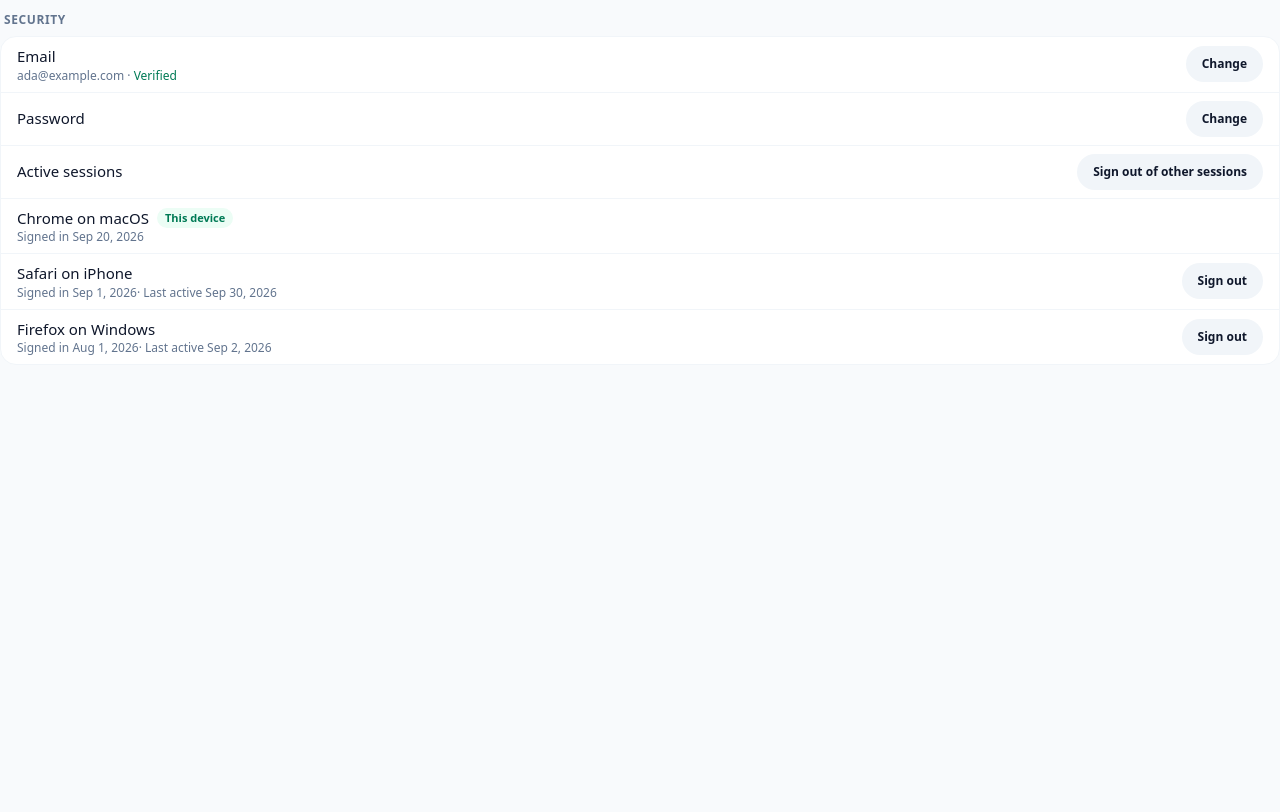
Test case: SecuritySection › shows why an email change was refused
This screenshot has width=1280, height=812.
Click the button "Change" in the row of "Verified" at (1224, 64), box [1186,46,1263,82]
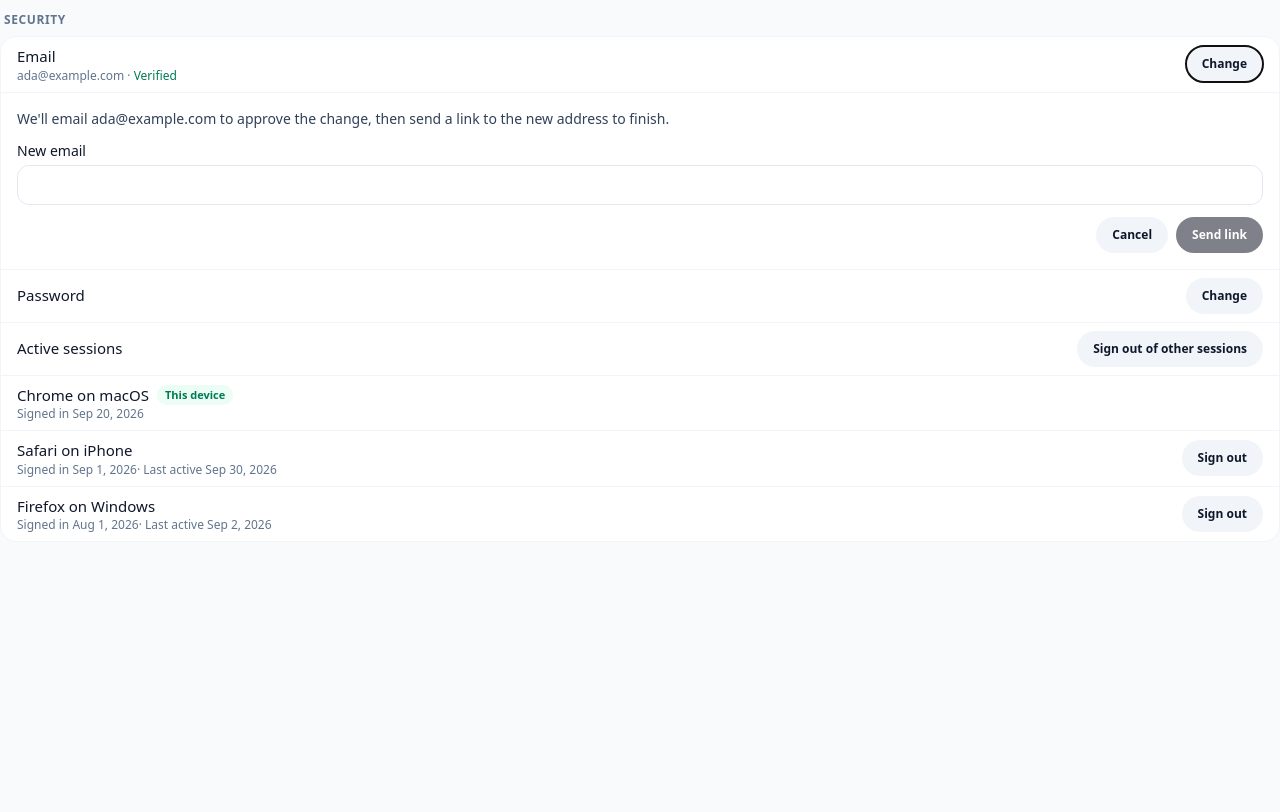
Type "blocked@example.com" into the field labelled "New email" at (640, 184), box [17,164,1263,204]
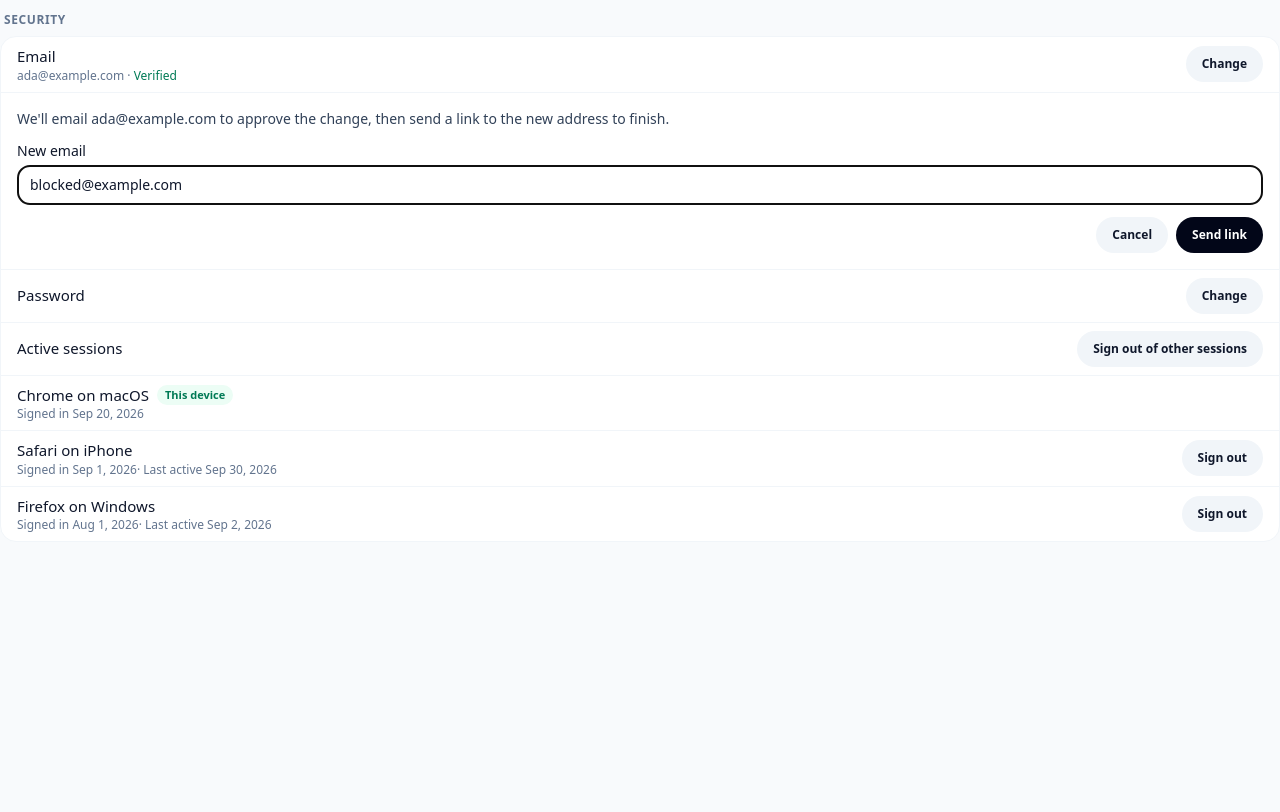
Click the button "Send link" at (1220, 234), box [1176,216,1263,252]
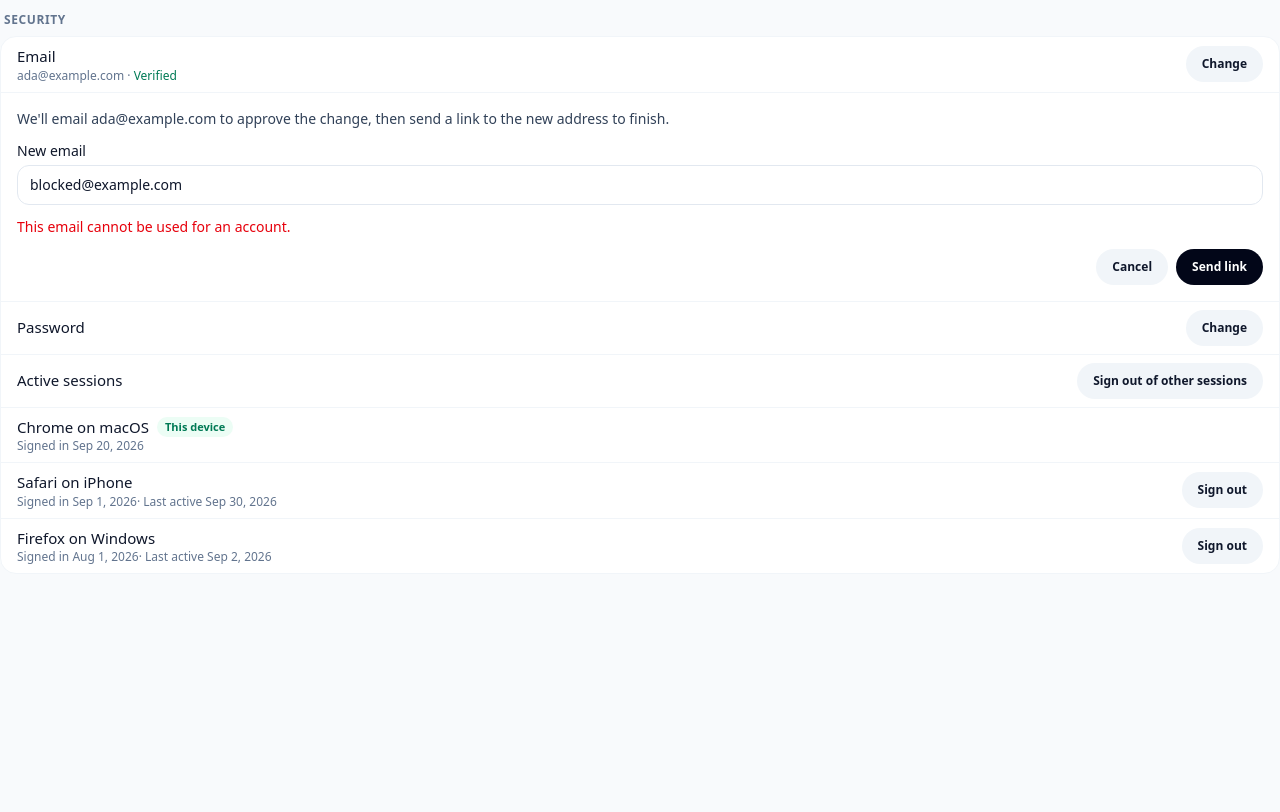
Now the message shows "cannot be used", box [17,216,290,236]
